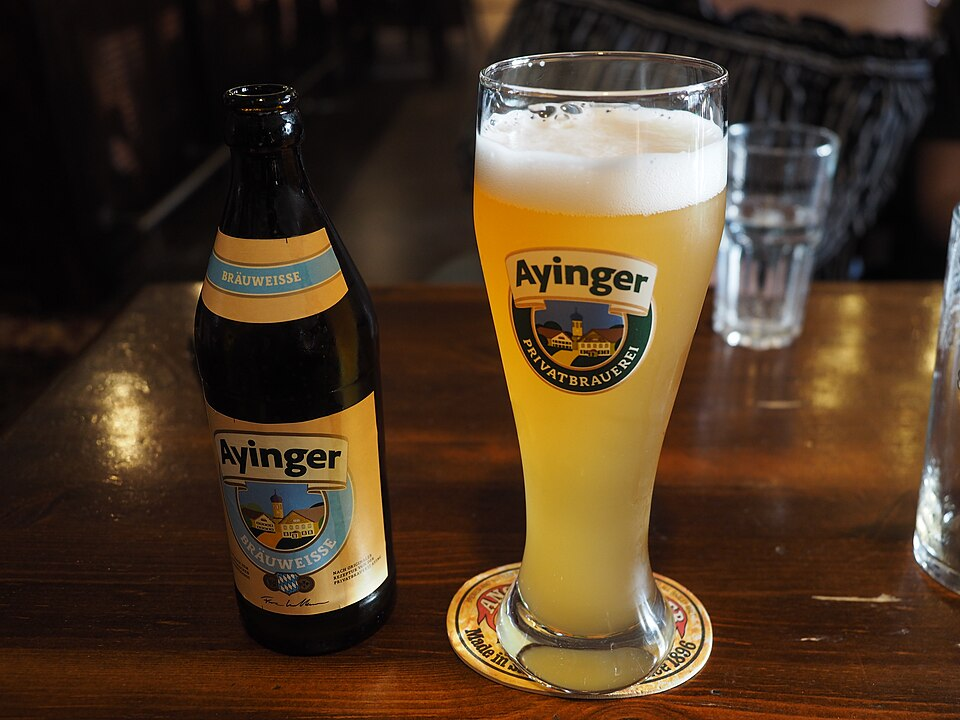beer-bottle: (169, 77, 406, 667)
